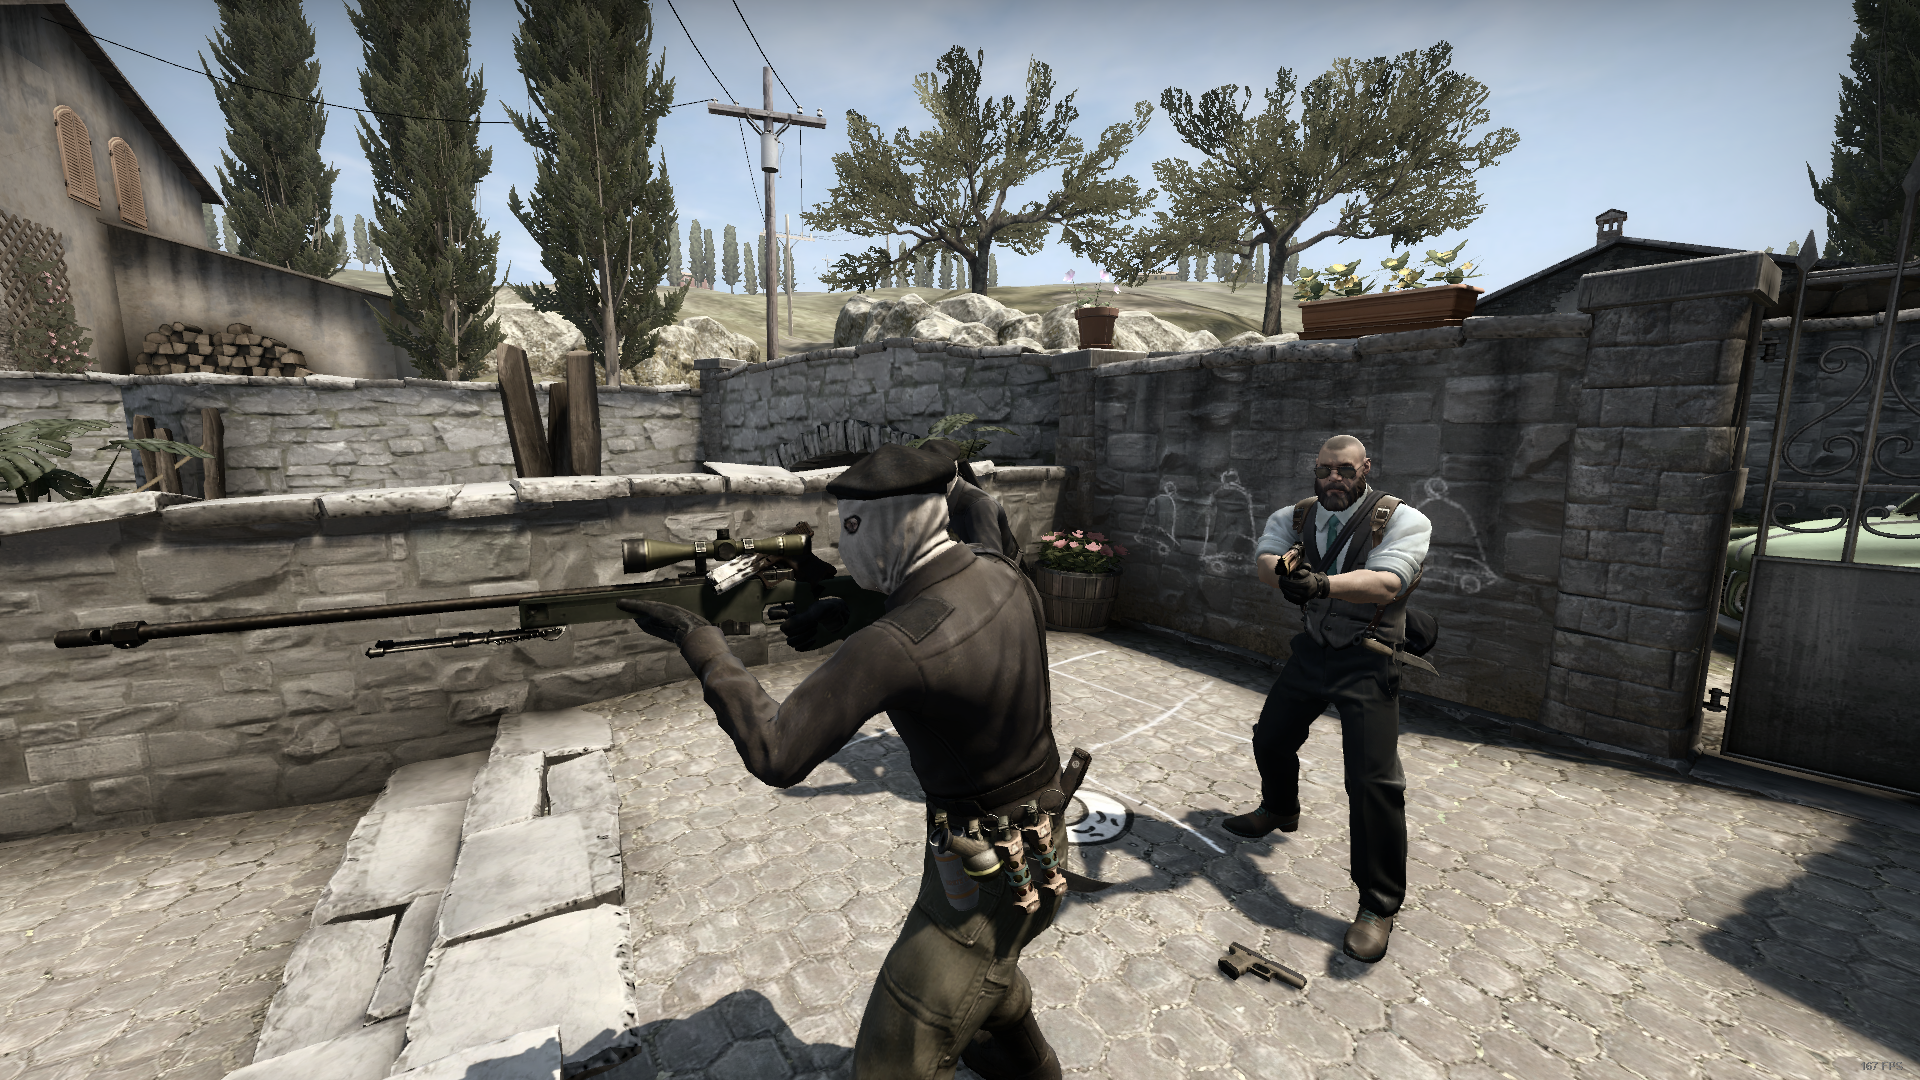t: (618, 440, 1071, 1080)
